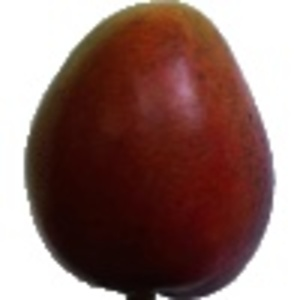manga: (25, 1, 276, 300)
